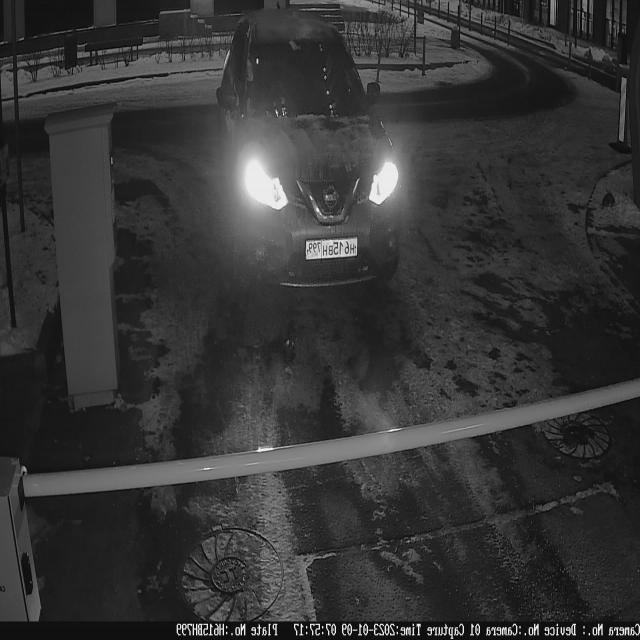car-plate-numbers: (304, 231, 362, 266)
